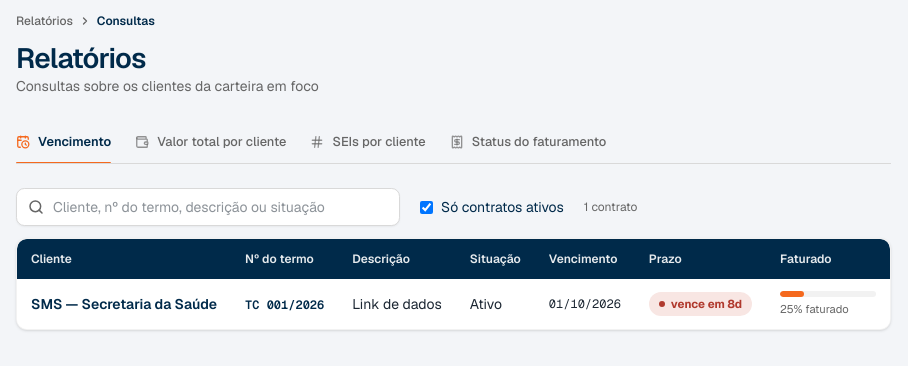
RelatoriosPage › aba Status do faturamento consulta o mês anterior e marca contrato sem faturamento
Click the tab "Status do faturamento".
click(528, 142)  # box 450,120 -> 606,163
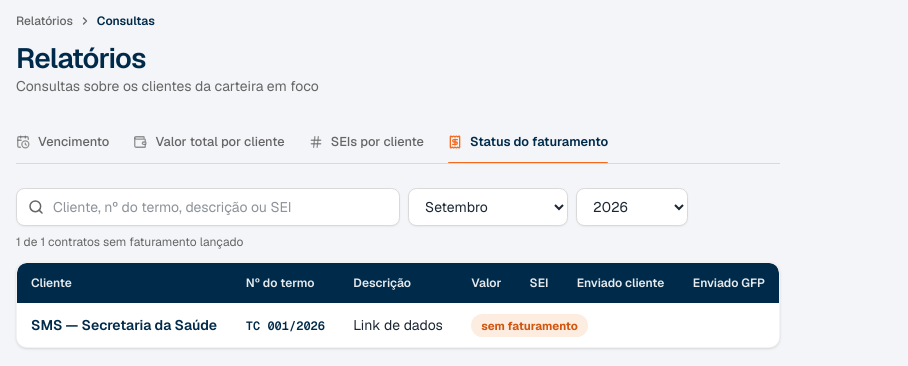
Check: the text "sem faturamento" is shown, box 471,314 -> 588,337
Check: the text "1 de 1 contratos sem faturamento lançado" is shown, box 16,234 -> 243,250
